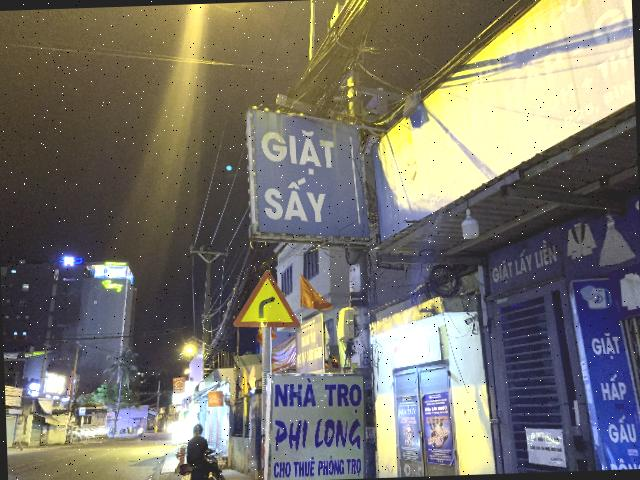cho-ngoat-nguy-hiem-ben-phai: (230, 268, 300, 330)
